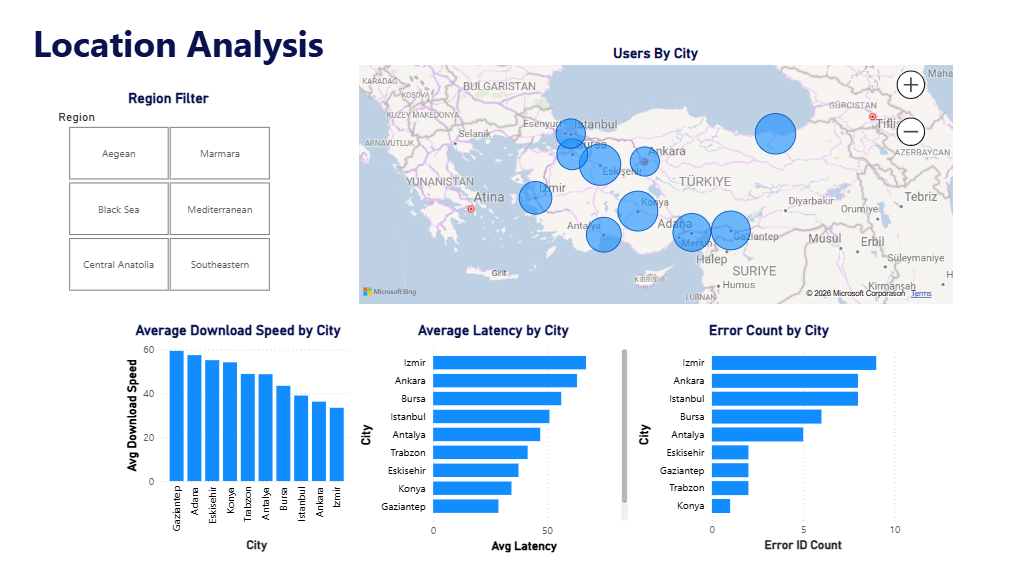

The page's visual inventory and layout, read from the dashboard file:
{"tool":"powerbi","page":{"name":"Location Analysis","canvas":[1280,720],"ordinal":1},"visuals":[{"type":"textbox","box":[10,0,280,280],"z":0},{"type":"map","title":"Users By City","fields":{"Category":["Locations.city"],"Size":["Avg(Users.user_id)"]},"box":[458.7,86.7,718.7,314.7],"z":1000},{"type":"clusteredColumnChart","title":"Average Download Speed by City","fields":{"Category":["Locations.city"],"Y":["Avg(Network_Logs.download_speed)"]},"box":[178.4,418.5,279.9,279.9],"z":2000},{"type":"clusteredBarChart","title":"Average Latency by City","fields":{"Y":["Avg(Network_Logs.latency)"],"Category":["Locations.city"]},"box":[458.3,418.5,332.1,292.3],"z":3000},{"type":"clusteredBarChart","title":"Error Count by City","fields":{"Category":["Locations.city"],"Y":["CountNonNull(Errors.error_id)"]},"box":[790.4,418.5,323.8,279.9],"z":4000},{"type":"slicer","title":"Region Filter","fields":{"Values":["Locations.region"]},"box":[90.6,140,289.5,247],"z":5000},{"type":"textbox","box":[68.7,50.7,391,71.6],"z":6000}]}

Visuals, with their boxes in screenshot pixels (x1, y1, x2, y2), scaled from the page's 1280x720 canvas onto the 1027x563 screenshot:
textbox: x1=8 y1=0 x2=233 y2=219
"Users By City" map: x1=368 y1=68 x2=945 y2=314
"Average Download Speed by City" clusteredColumnChart: x1=143 y1=327 x2=368 y2=546
"Average Latency by City" clusteredBarChart: x1=368 y1=327 x2=634 y2=556
"Error Count by City" clusteredBarChart: x1=634 y1=327 x2=894 y2=546
"Region Filter" slicer: x1=73 y1=109 x2=305 y2=303
textbox: x1=55 y1=40 x2=369 y2=96
